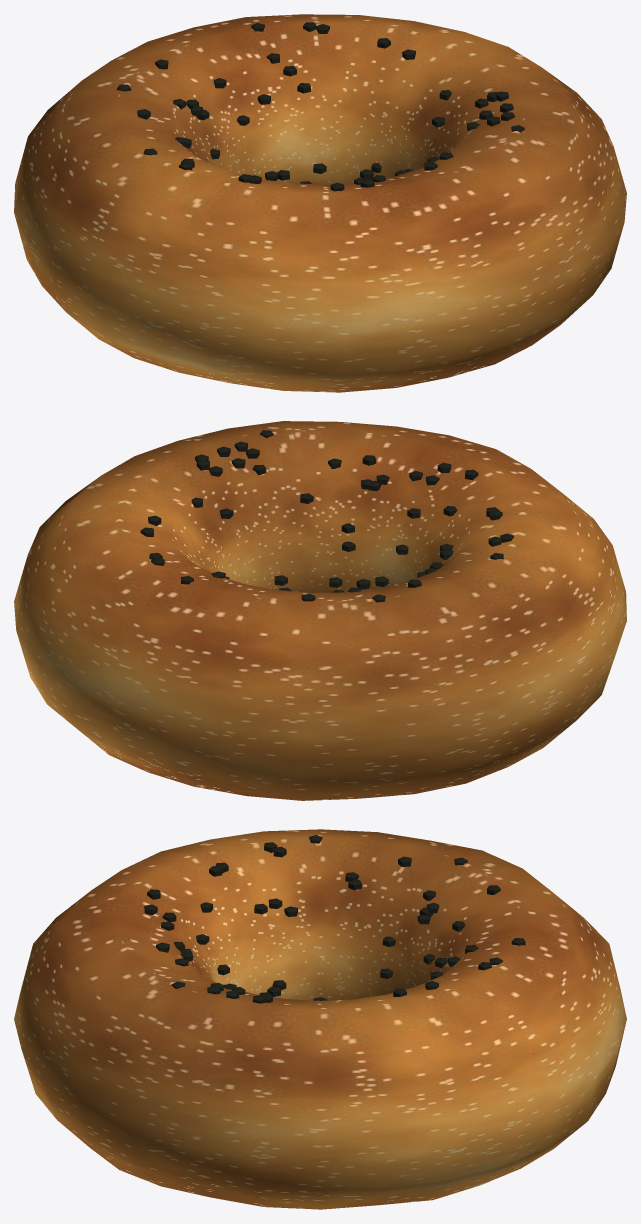
The model's file is bakery_bagel_poppy.glb.
3 views of the same model, one above another, from view 1: azimuth 30°, elevation 25°; view 2: azimuth 150°, elevation 25°; view 3: azimuth 270°, elevation 25° (orthographic).
Parts seen in each view (by area): view 1: bakery_bagel_poppy; view 2: bakery_bagel_poppy; view 3: bakery_bagel_poppy.
Boxes of the visible parts, left/top/right/bottom form: bakery_bagel_poppy: left=14, top=14, right=626, bottom=392; bakery_bagel_poppy: left=14, top=421, right=626, bottom=800; bakery_bagel_poppy: left=14, top=829, right=626, bottom=1209.
Bounding box in the file's own units: 0.1034 × 0.0359 × 0.1024.
2 materials, 1 textured.
